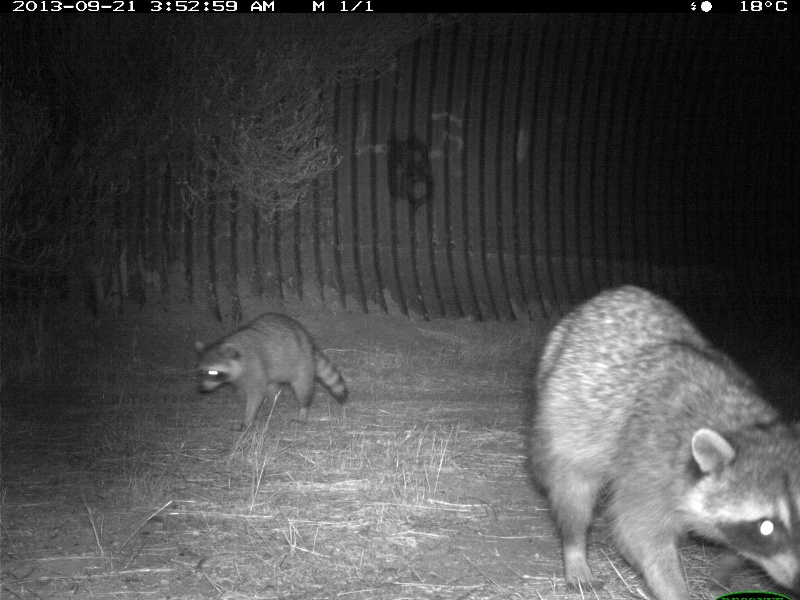raccoon: (524, 280, 795, 595), (189, 310, 352, 435)
